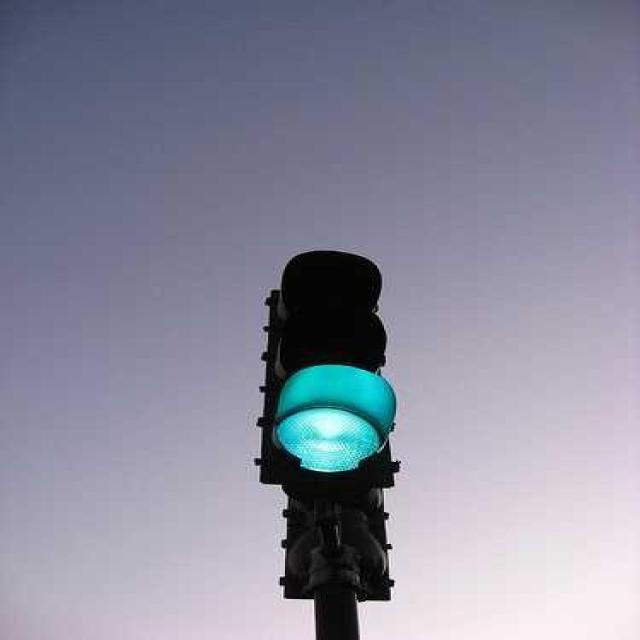Traffic Light -Green-: (252, 246, 406, 498)
